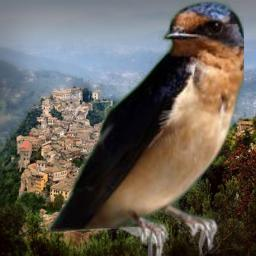Swallow: (47, 0, 244, 256)
